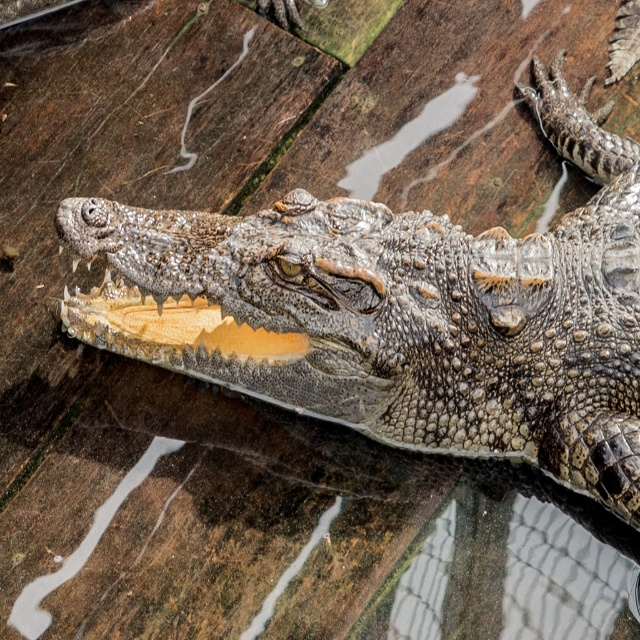Crocodile: (52, 48, 640, 533), (608, 0, 640, 83)
